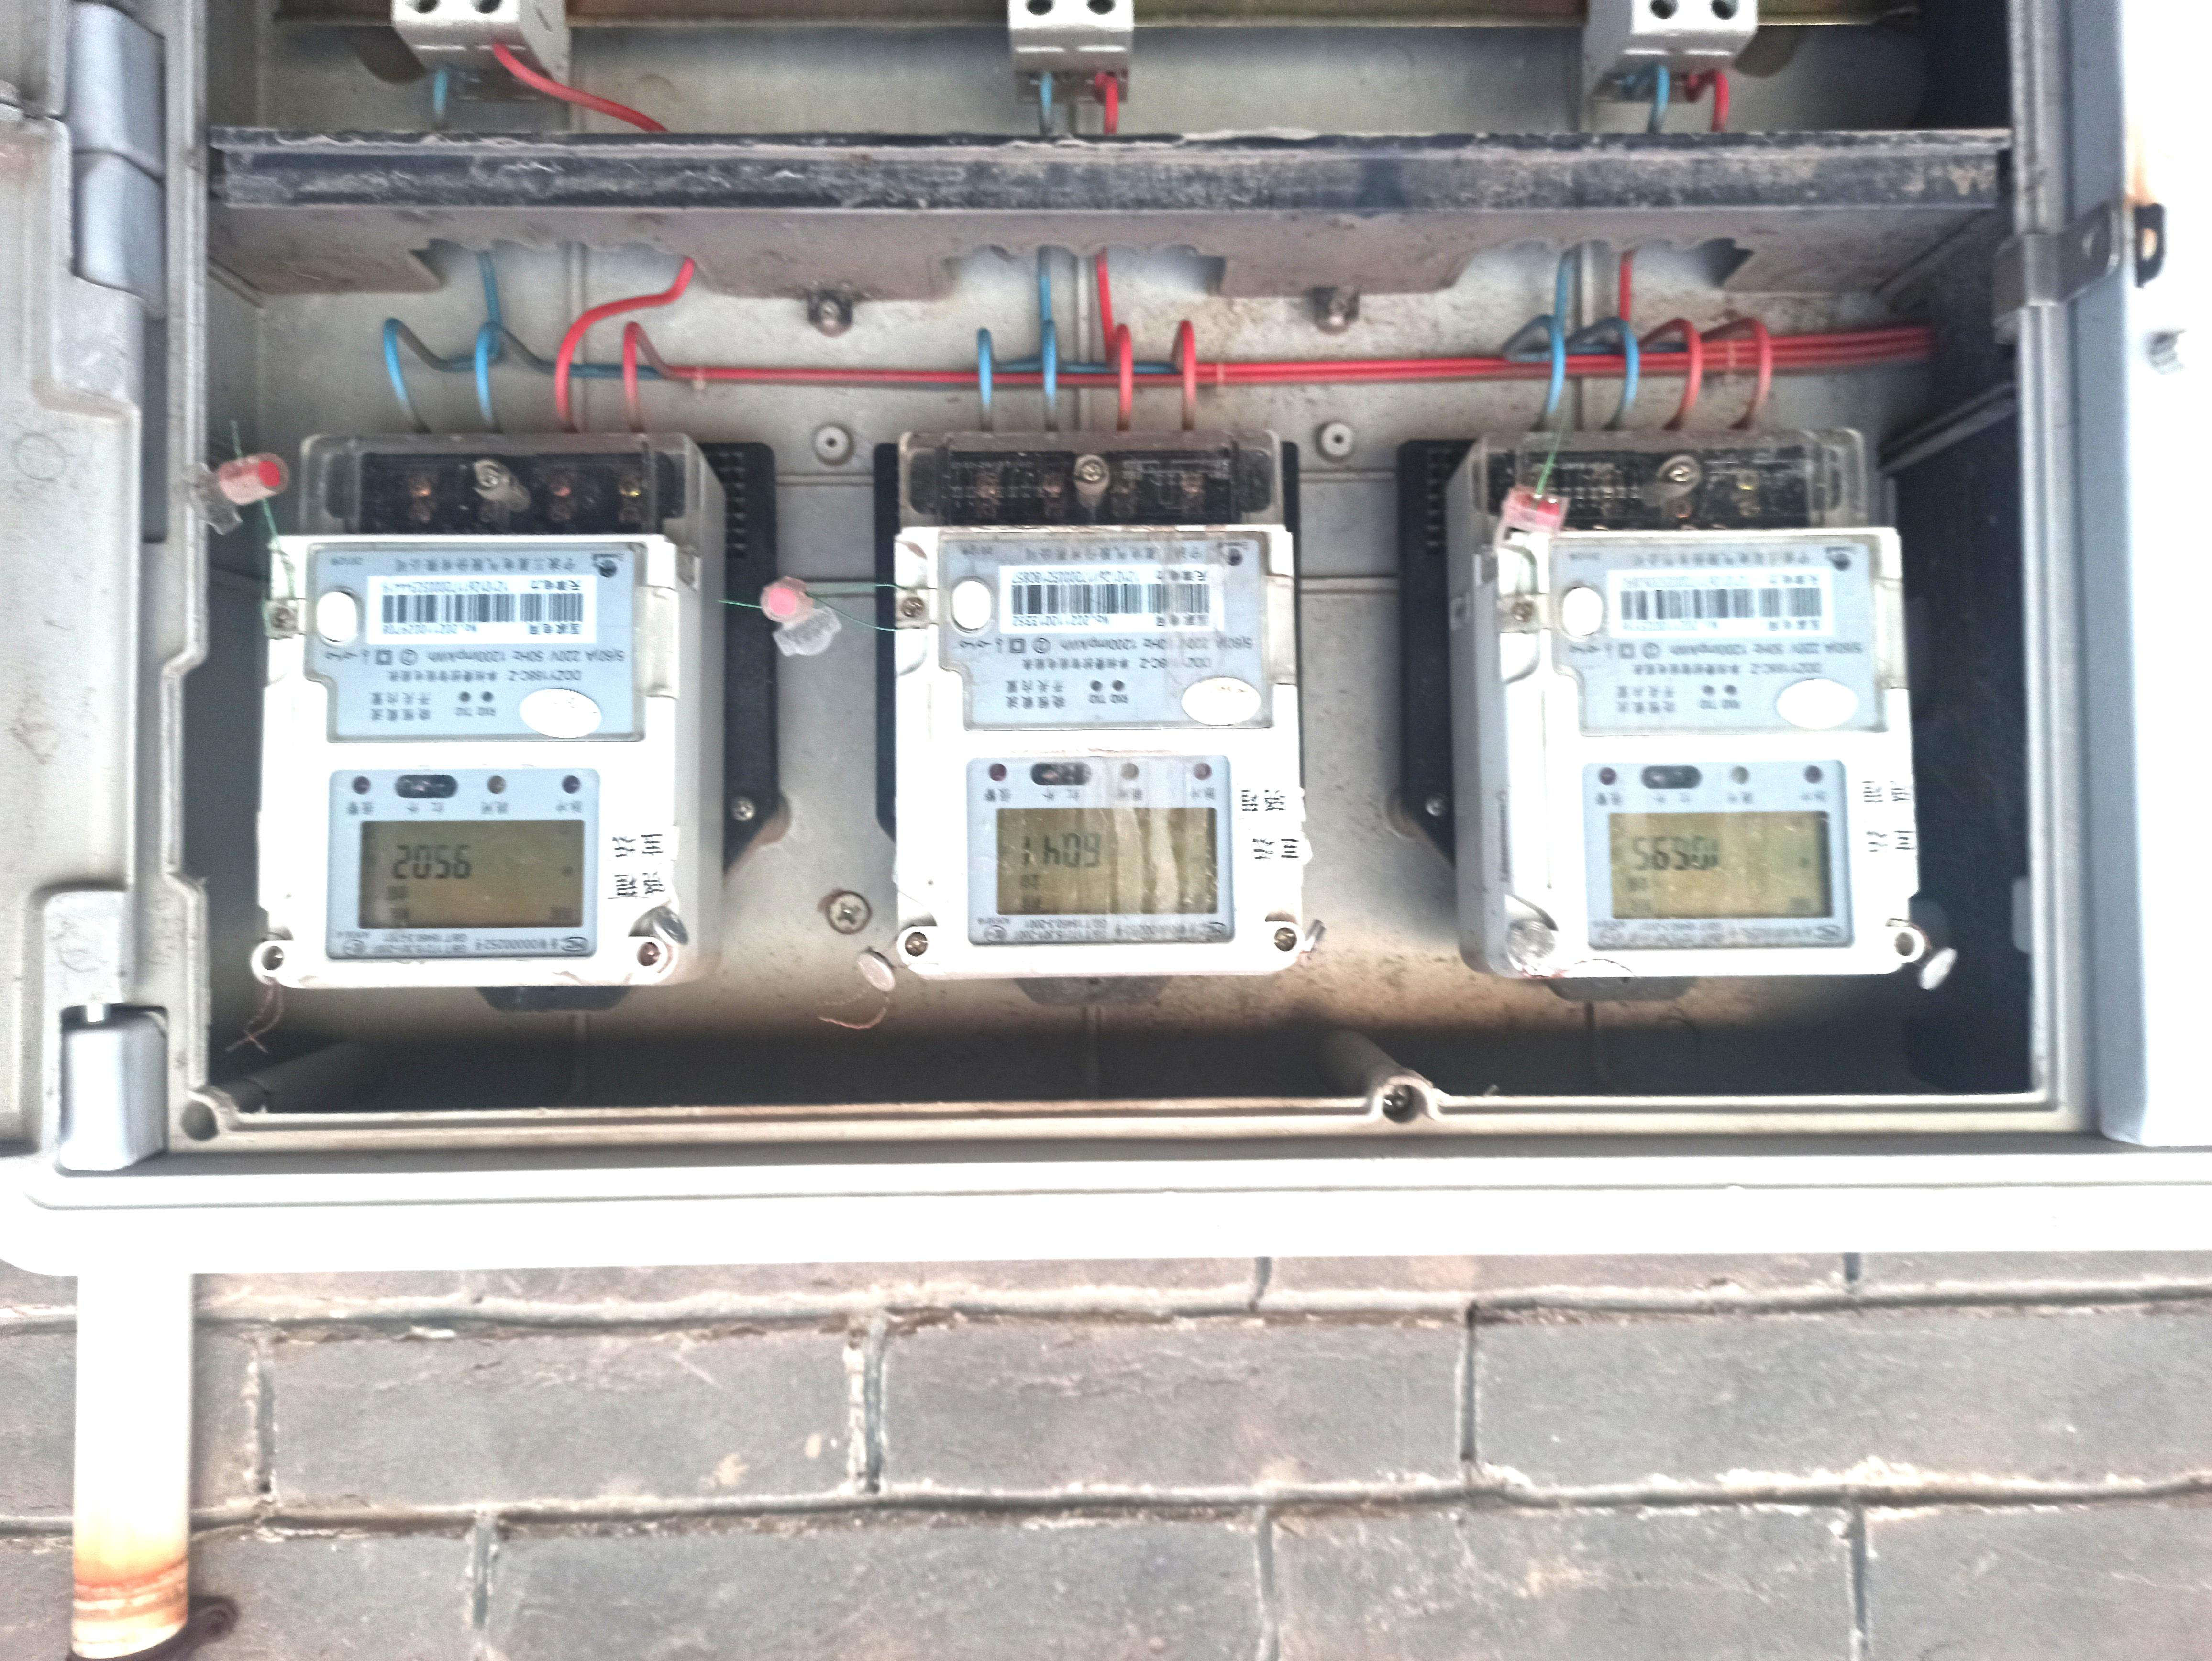digital: (253, 527, 679, 988), (1495, 527, 1915, 975), (898, 522, 1301, 977)
